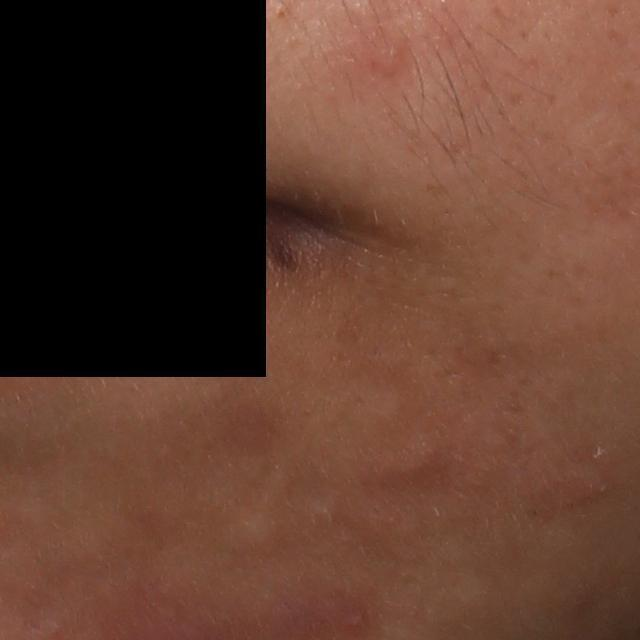comedo: (273, 4, 289, 21)
hypertrophic_scar: (216, 501, 292, 564), (366, 437, 452, 487)
nevus: (268, 232, 298, 271)
papule: (368, 41, 405, 78)
